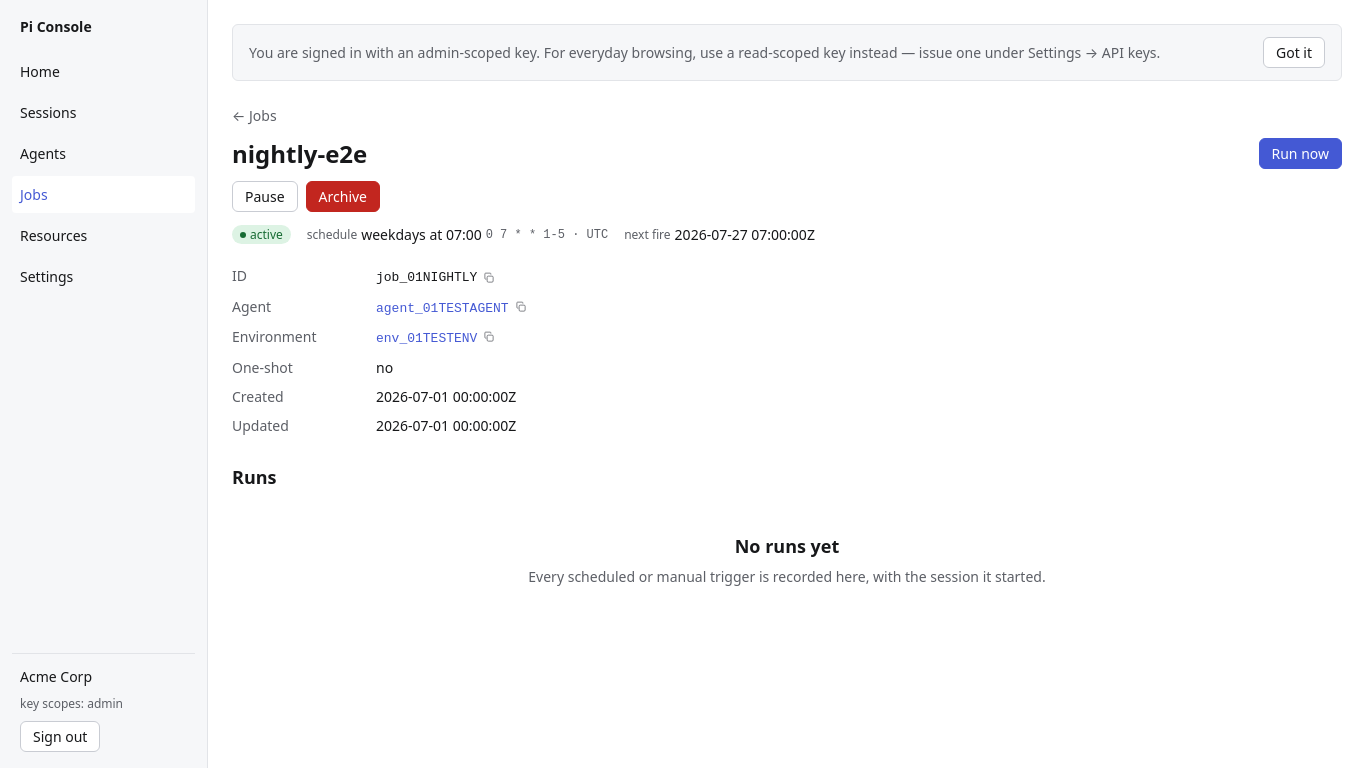
Test: job lifecycle (§9.4, write-gated, §17.5) › is axe-clean with the archive dialog open
The width and height of the screenshot is (1366, 768).
Click the button "Archive" at point(343, 197), box [306,181,380,212]
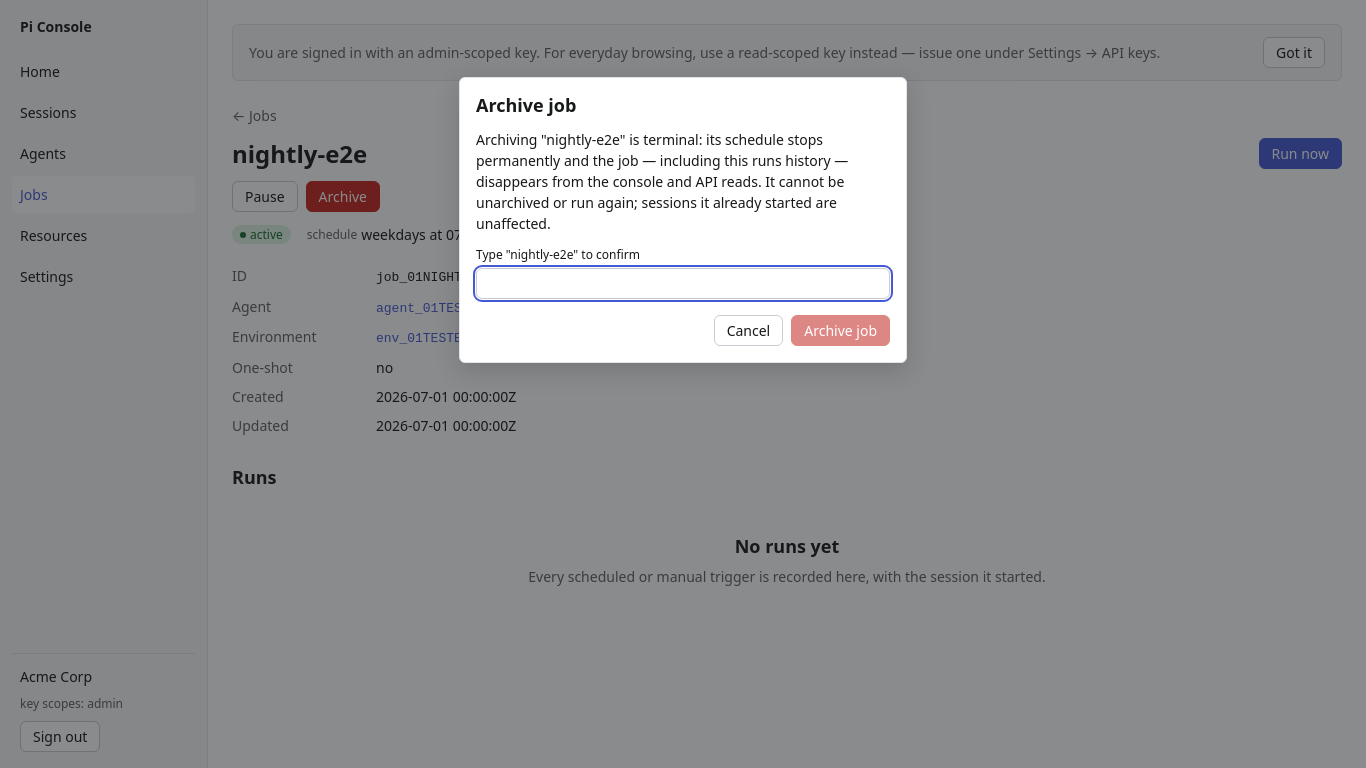
expect the dialog "Archive job" is shown: met, box [459,77,907,363]
